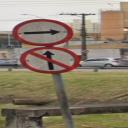NoSeguir: (20, 47, 80, 73)
